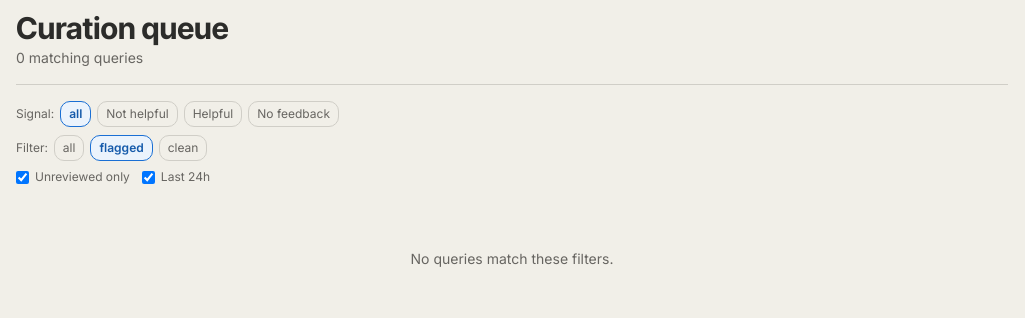
Test case: AdminHelpQueriesPage › signal filter chip swap re-fetches with new param
Click the button with test id "signal-NOT_HELPFUL": [137, 114] box [97,101,178,127]
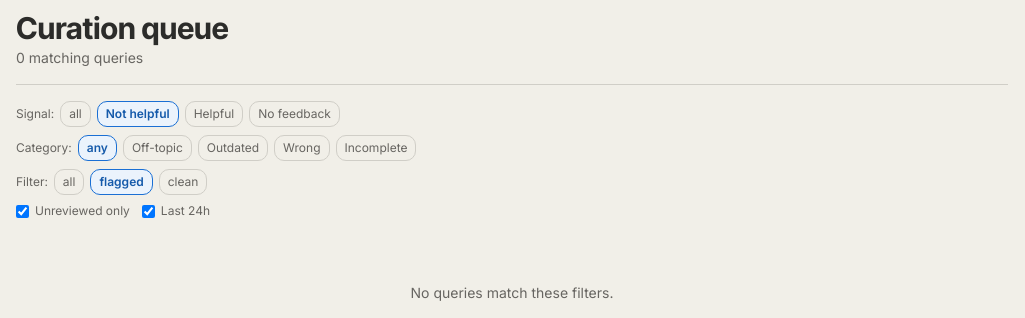
Result: the button with test id "category-OUTDATED" is shown at [198,135,268,161]
